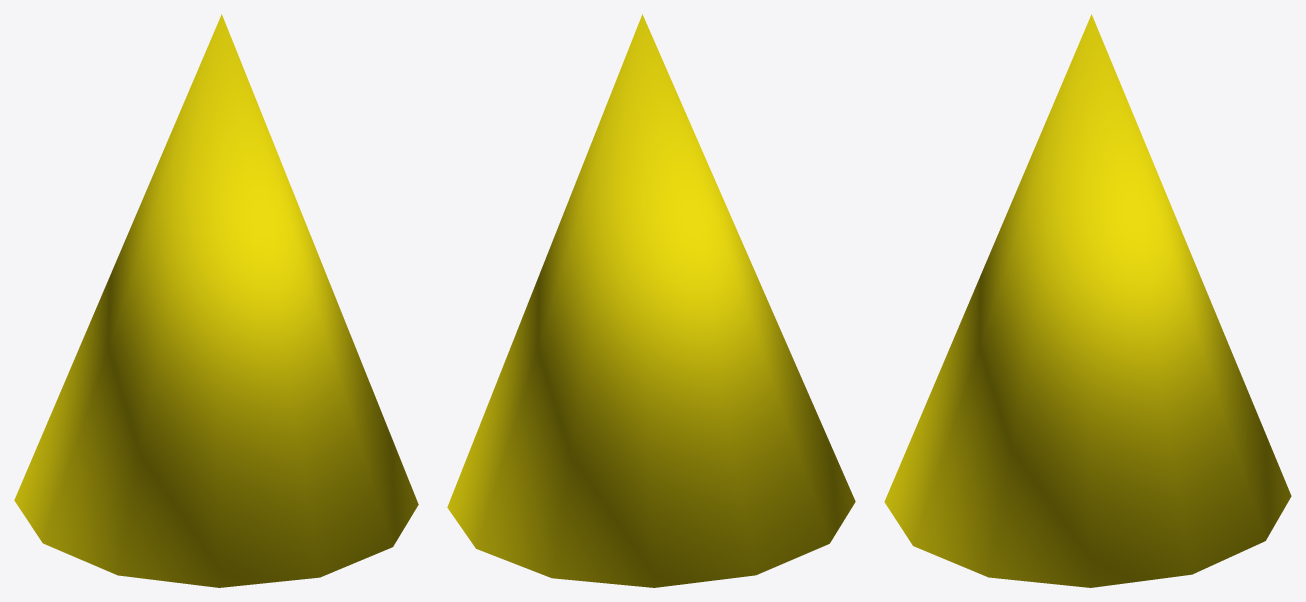
File: rim_partyhat0.gltf
The picture shows the model from 3 angles, left to right: view 1: azimuth 30°, elevation 25°; view 2: azimuth 150°, elevation 25°; view 3: azimuth 270°, elevation 25°; orthographic projection.
Visible parts, largest first — view 1: Cone; view 2: Cone; view 3: Cone.
Boxes of the visible parts, <box> form: Cone: <box>14,14,418,587</box>; Cone: <box>447,14,855,587</box>; Cone: <box>884,14,1291,587</box>.
Size of the model in its own units: 0.5901 by 0.7868 by 0.5903.
1 material, 1 textured.
